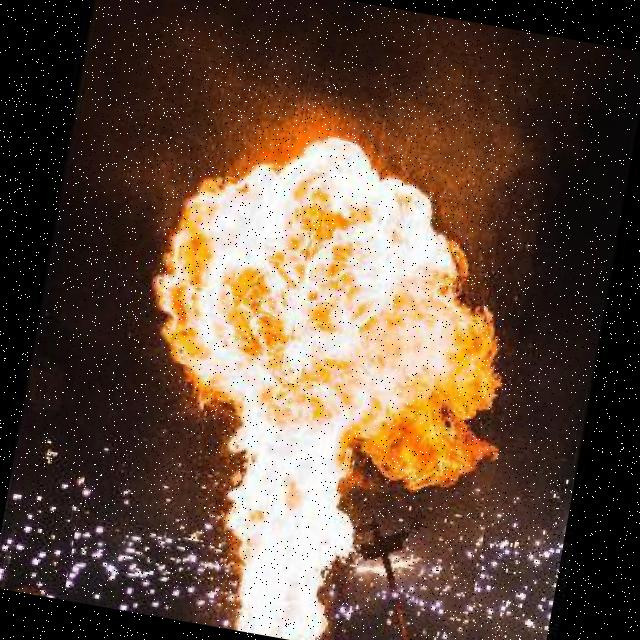fire: (62, 63, 553, 640)
